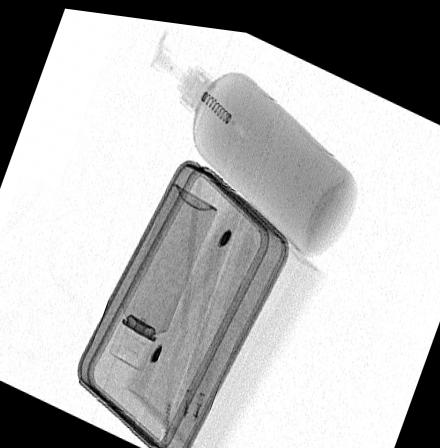Sprayer: (108, 178, 216, 368)
